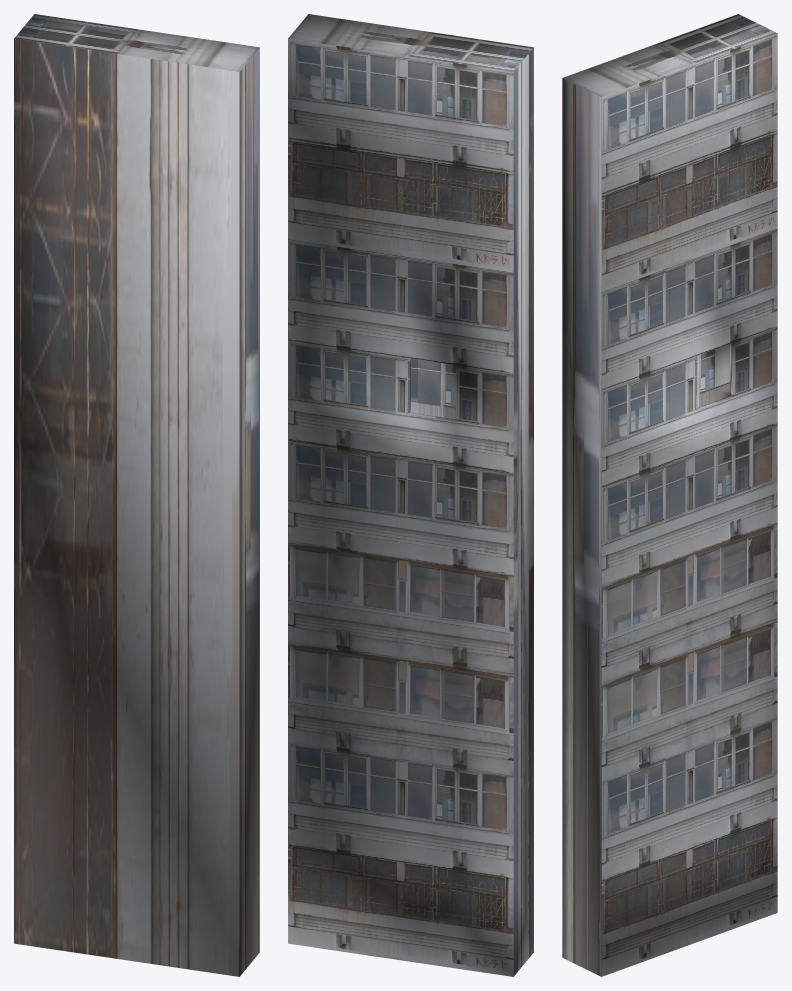
Rendered from Балкон_дед.fbx.
3 renders of one model, left to right at view 1: azimuth 30°, elevation 25°; view 2: azimuth 210°, elevation 25°; view 3: azimuth 270°, elevation 25°, orthographic. The views are drawn at different scales.
Visible parts, largest first — view 1: Cube.041; view 2: Cube.041; view 3: Cube.041.
Part boxes in pixels (box(x1,y1,x2,y2)): Cube.041: box(14, 14, 259, 976); Cube.041: box(288, 14, 533, 976); Cube.041: box(562, 14, 777, 976).
Size of the model in its own units: 666 by 3283 by 727.
Materials: 1 (1 with a texture image).
